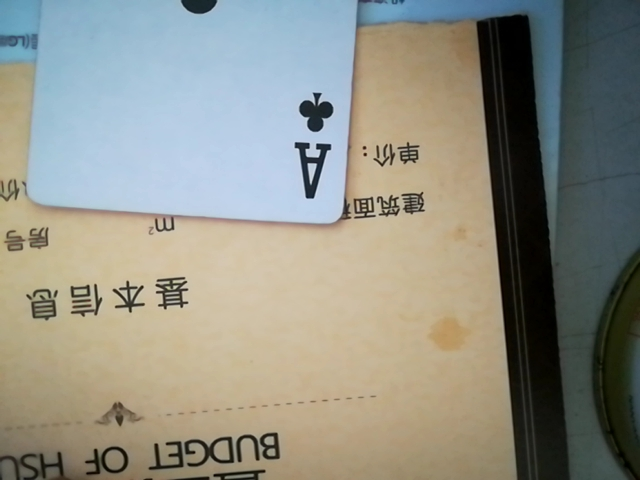mh a: (18, 0, 361, 228)
